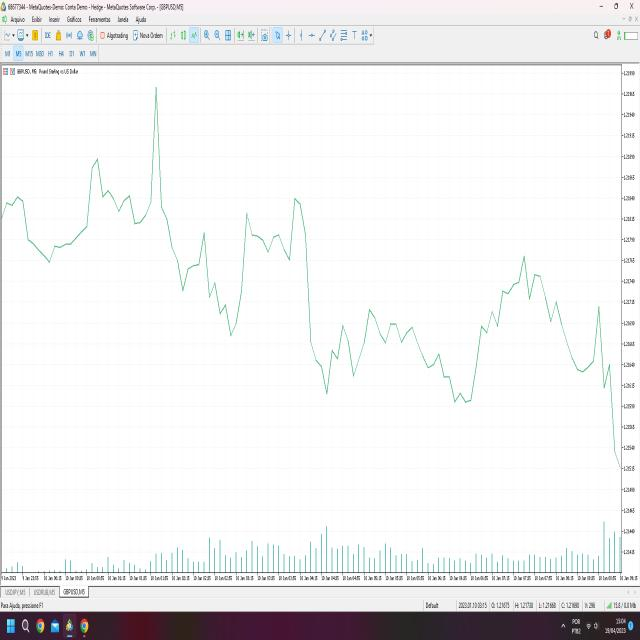topo_duplo: (230, 159, 317, 380)
